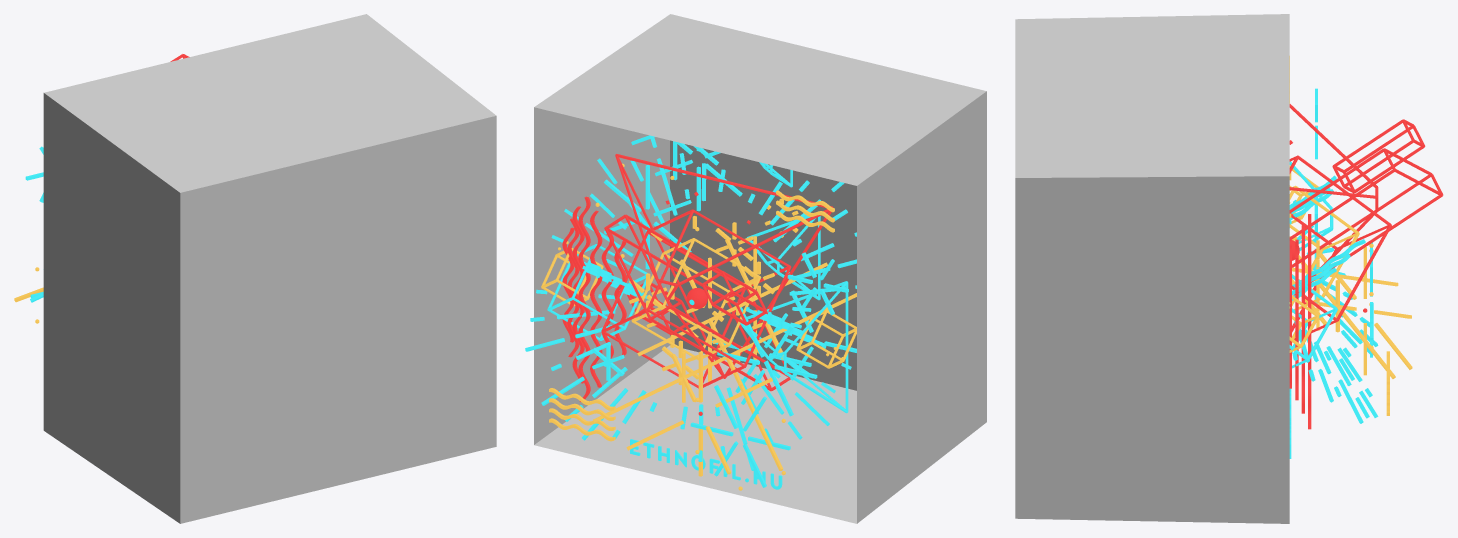
The model's file is figurak.fbx.
3 views of the same model, side by side, from view 1: azimuth 30°, elevation 25°; view 2: azimuth 150°, elevation 25°; view 3: azimuth 270°, elevation 25° (orthographic). The views are drawn at different scales.
Visible parts, largest first — view 1: Cube; view 2: Cube, Cube_2, Disc_2, Platonic_2_2, Cube_4_17, Platonic_2_3, Disc_0, Platonic_2, Platonic_2_4, Cube_2_20, Extrude_Extrude_1, Cube_2_5_1 (+7 smaller); view 3: Cube, Cube_4_17, Cube_2_20, Platonic_2_2, Disc_2, Platonic_2_3, Cube_2_1_4, Platonic_2_4, Cube_2_0_2_2, Platonic_2, Cube_2_5_1, Cube_2_2_4.
Part boxes in pixels (x1=…): Cube: x1=43, y1=14, x2=496, y2=523; Cube: x1=534, y1=14, x2=986, y2=523; Cube_2: x1=534, y1=107, x2=856, y2=523; Disc_2: x1=615, y1=154, x2=833, y2=378; Platonic_2_2: x1=601, y1=209, x2=791, y2=388; Cube_4_17: x1=604, y1=214, x2=791, y2=391; Platonic_2_3: x1=631, y1=238, x2=761, y2=360; Disc_0: x1=740, y1=281, x2=848, y2=413; Platonic_2: x1=541, y1=248, x2=856, y2=368; Platonic_2_4: x1=547, y1=244, x2=647, y2=340; Cube_2_20: x1=701, y1=271, x2=767, y2=325; Extrude_Extrude_1: x1=630, y1=439, x2=782, y2=489; Cube_2_5_1: x1=593, y1=293, x2=856, y2=422; Cube: x1=1015, y1=14, x2=1289, y2=523; Cube_4_17: x1=1289, y1=148, x2=1443, y2=282; Cube_2_20: x1=1332, y1=119, x2=1425, y2=193; Platonic_2_2: x1=1289, y1=155, x2=1391, y2=339; Disc_2: x1=1289, y1=104, x2=1378, y2=295; Platonic_2_3: x1=1289, y1=185, x2=1359, y2=312; Cube_2_1_4: x1=1308, y1=214, x2=1311, y2=429; Platonic_2_4: x1=1289, y1=274, x2=1337, y2=368; Cube_2_0_2_2: x1=1301, y1=234, x2=1304, y2=413; Platonic_2: x1=1289, y1=165, x2=1319, y2=352; Cube_2_5_1: x1=1298, y1=255, x2=1395, y2=378; Cube_2_2_4: x1=1295, y1=256, x2=1298, y2=400.
Bounding box in the file's own units: 709 × 700 × 781.
